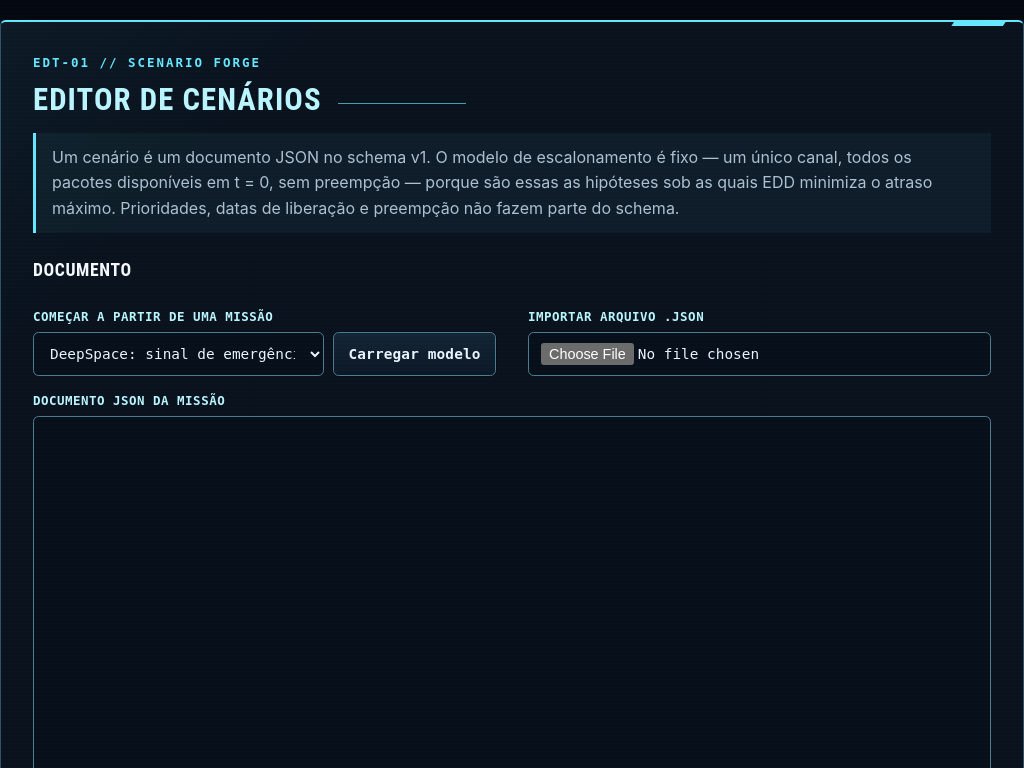
ScenarioEditor › carrega uma missão oficial como modelo já com um ID que não colide
Select "Tempestade solar" in the dropdown labelled "Começar a partir de uma missão" at (178, 354), box left=33, top=332, right=324, bottom=376
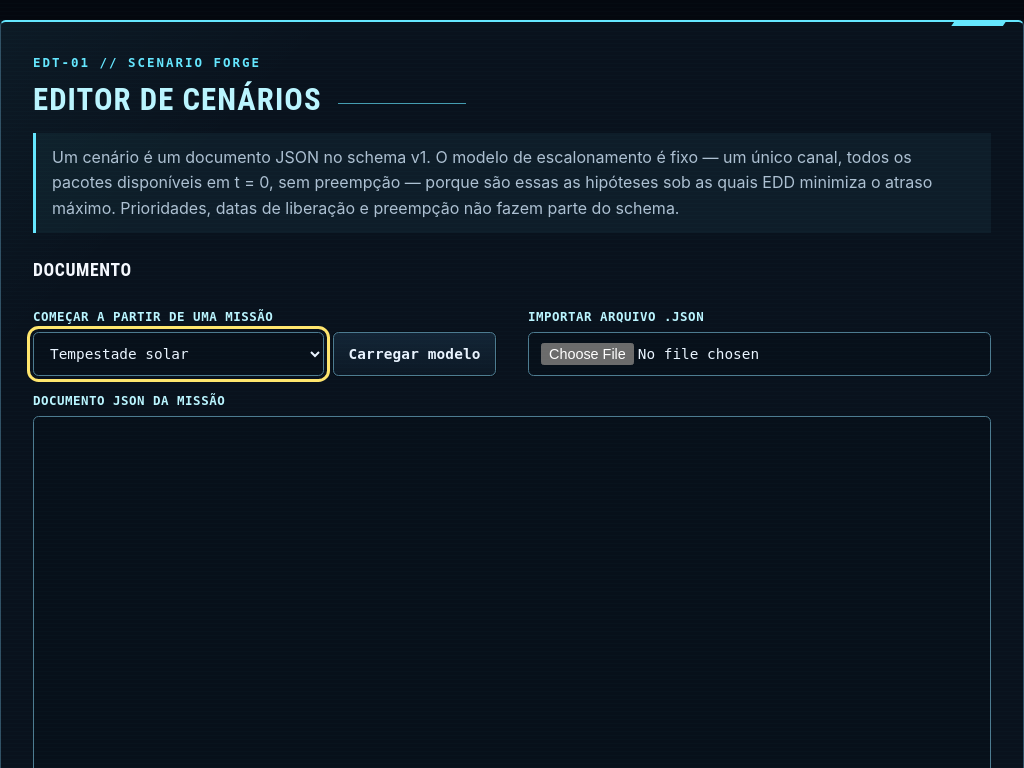
Click the button "Carregar modelo" at (415, 354), box left=333, top=332, right=496, bottom=376
(page scrolled)
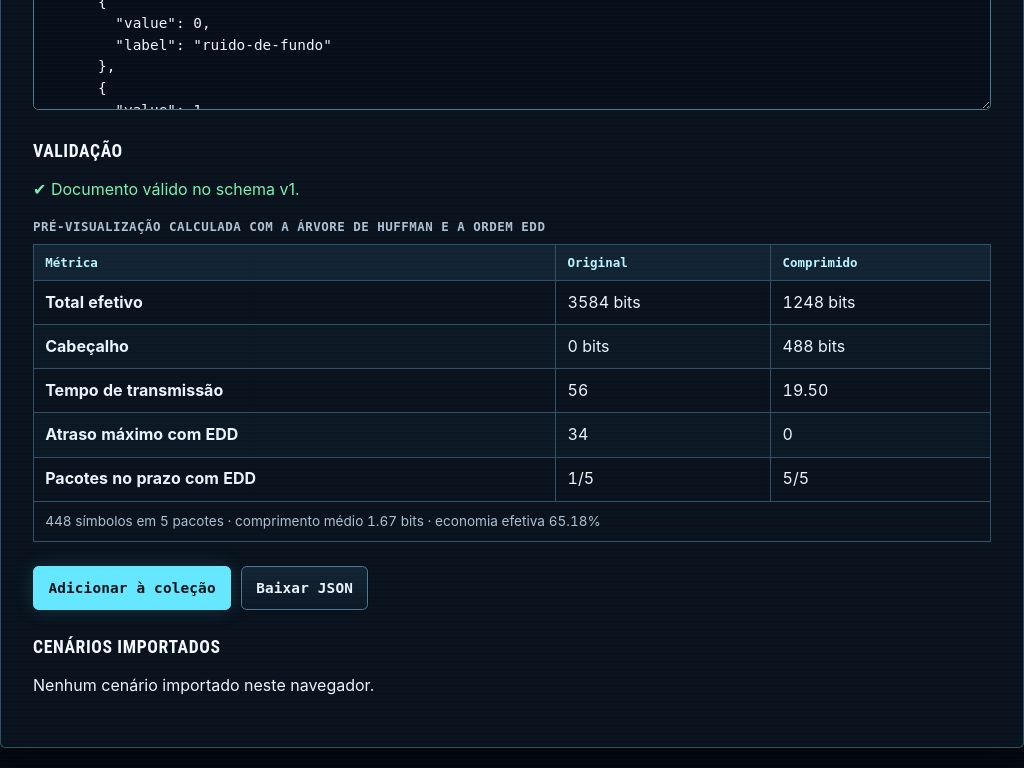
Now the text "✔ Documento válido no schema v1." is shown, box left=33, top=179, right=300, bottom=199
Now the button "Adicionar à coleção" is enabled, box left=33, top=566, right=231, bottom=610
